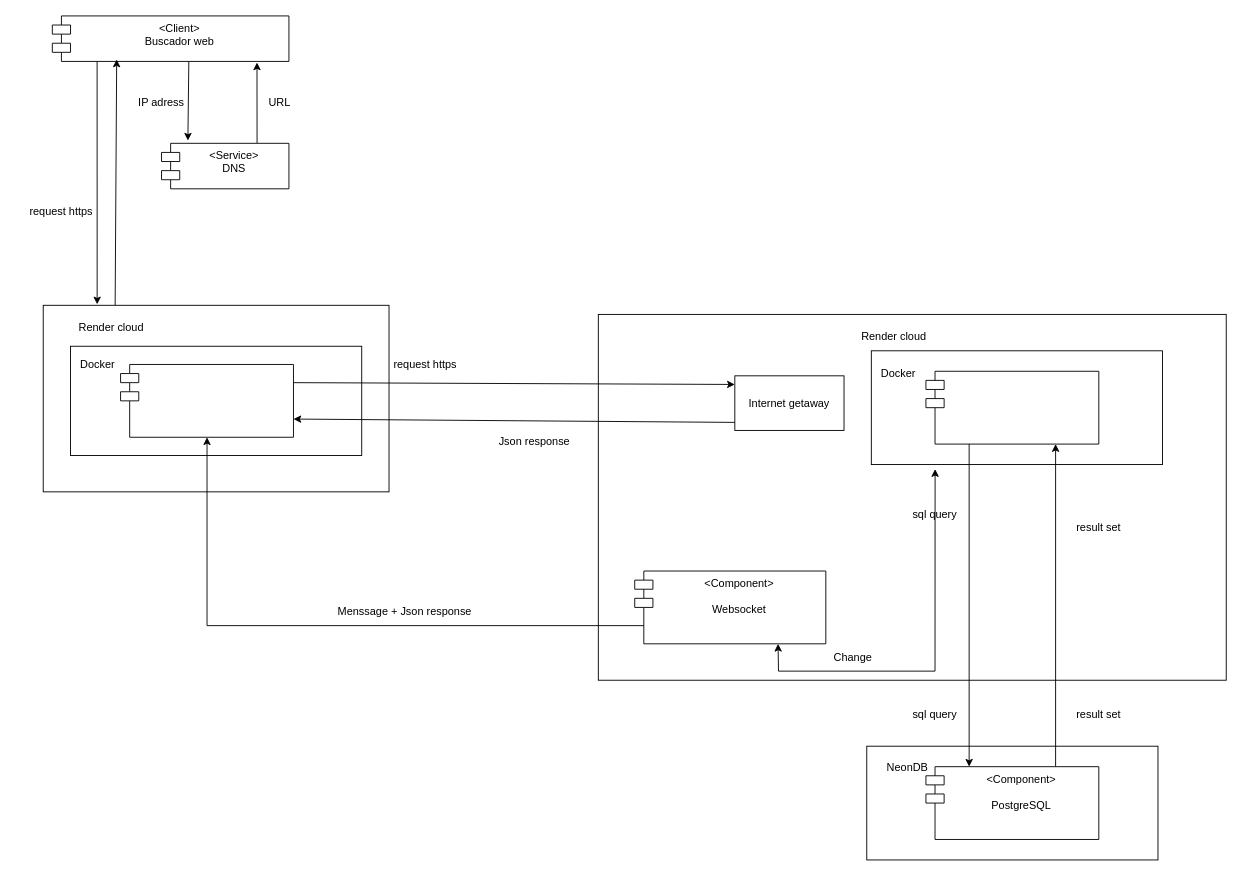
The diagram is 1242 pixels wide and 876 high, and some of its shapes have lost their labels. Each missing label, with the centre of its shape:
<Component> Python Backend: the point at 1012,407
<Component> React app: the point at 206,400
